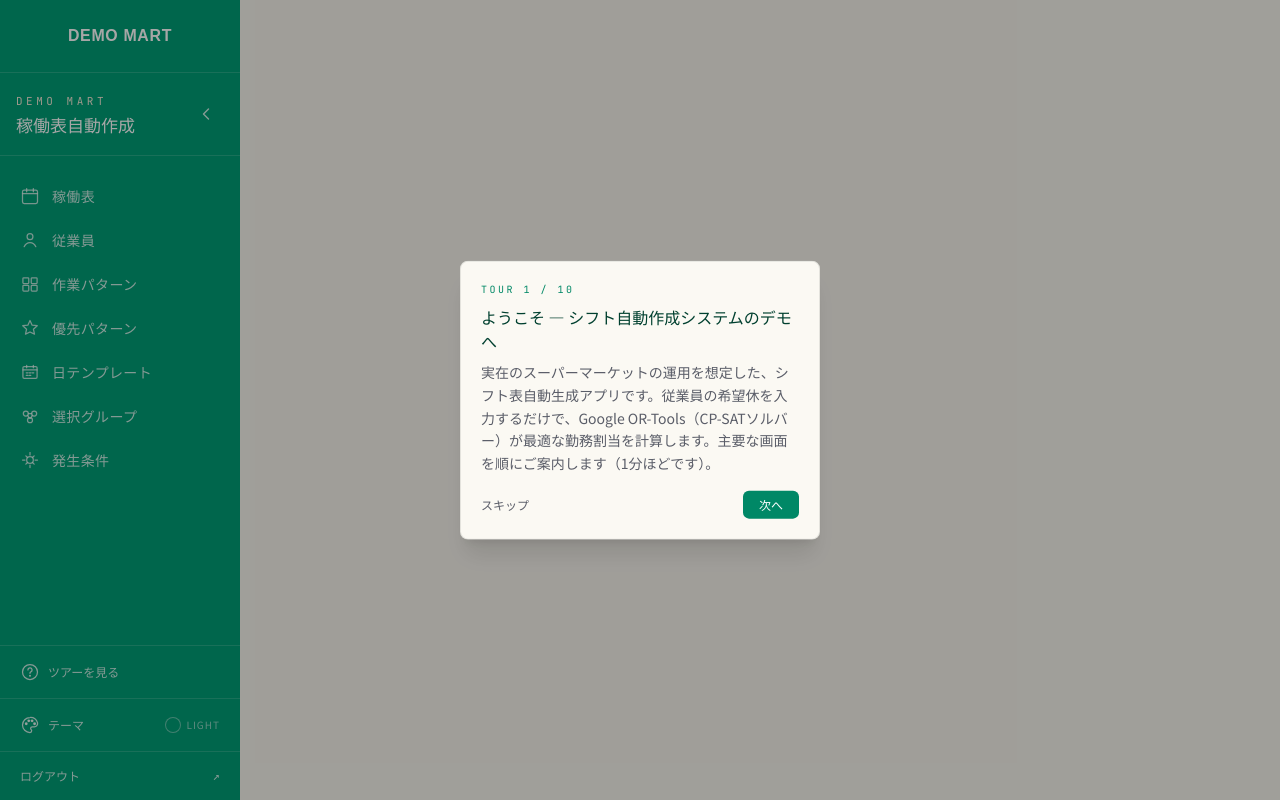
Scenario: Layout — sidebar collapse › persists collapsed state to localStorage
Expected: the text "稼働表" is shown, [52, 186, 95, 206]
Click the button named "メニューを折りたたむ": x=206, y=114 [188, 96, 224, 132]
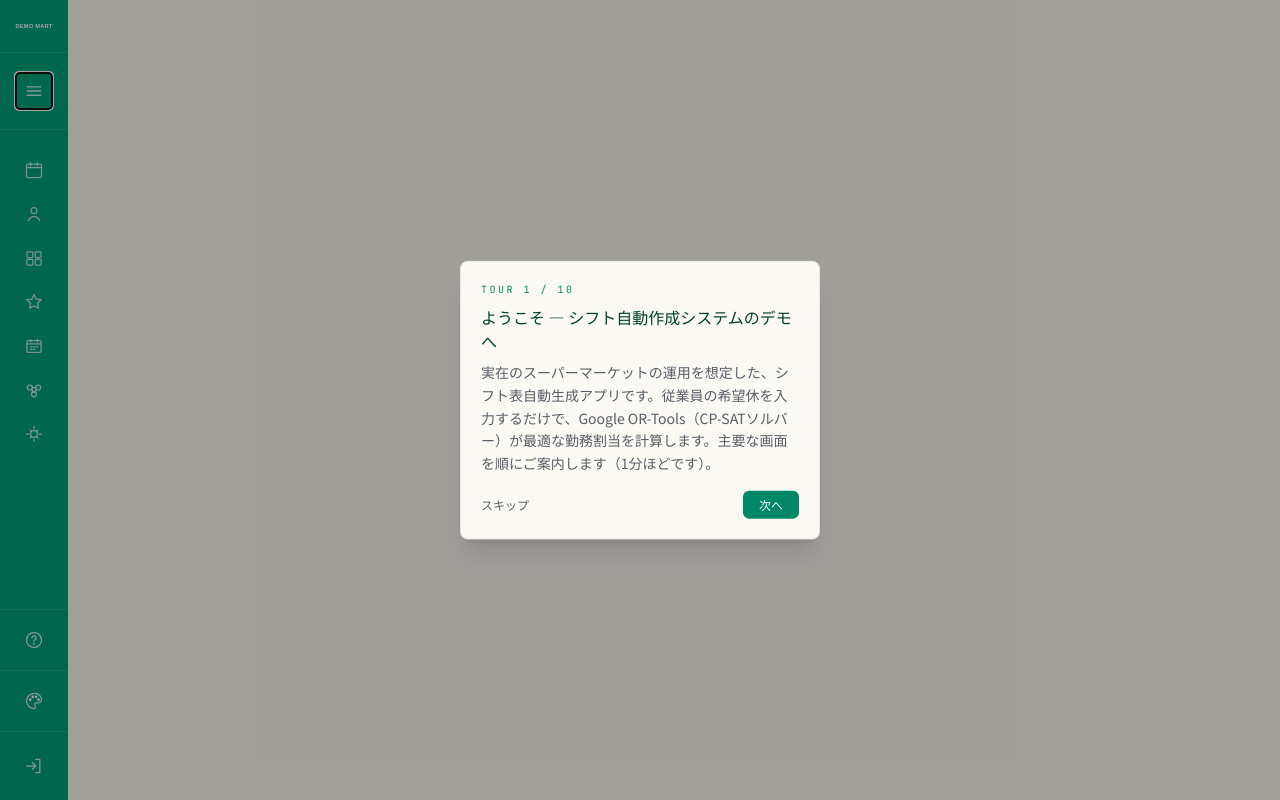
Expected: the heading "稼働表" is gone
